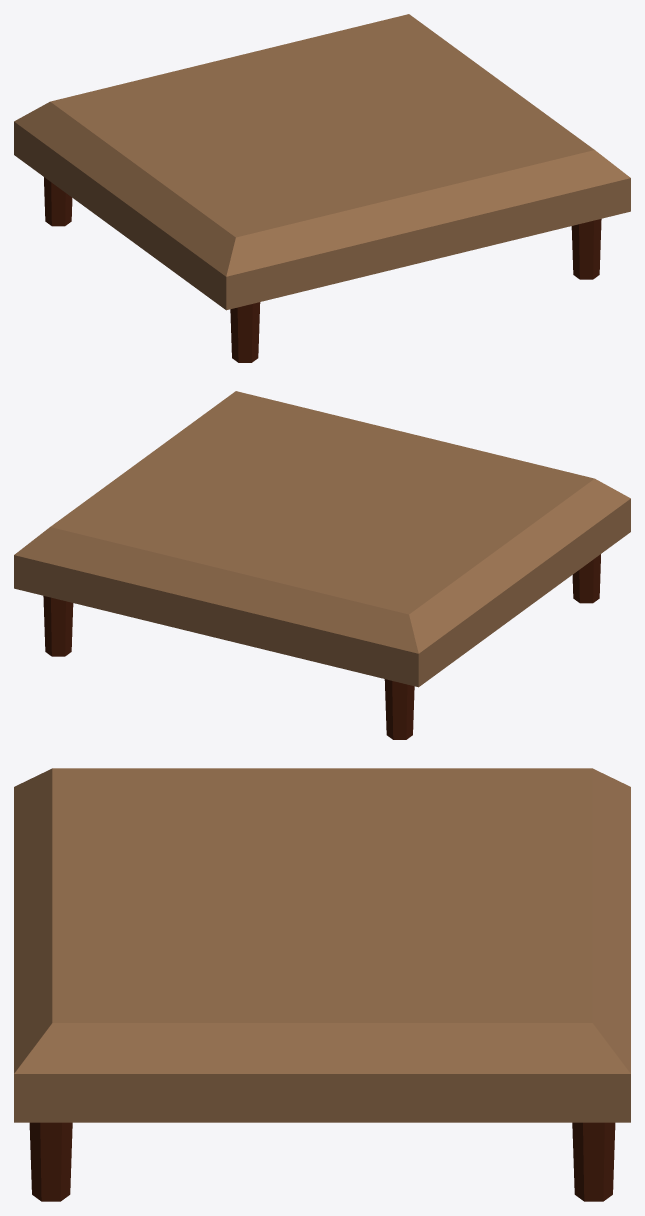
File: OttomanCoffeTable1.glb
3 renders of one model, top to bottom at view 1: azimuth 30°, elevation 25°; view 2: azimuth 150°, elevation 25°; view 3: azimuth 270°, elevation 25°, orthographic. The views are drawn at different scales.
Parts seen in each view (by area): view 1: OttomanCoffeTable1; view 2: OttomanCoffeTable1; view 3: OttomanCoffeTable1.
Boxes of the visible parts, bbox=[...] form: OttomanCoffeTable1: bbox=[14, 14, 630, 362]; OttomanCoffeTable1: bbox=[14, 391, 630, 739]; OttomanCoffeTable1: bbox=[14, 768, 630, 1201].
Bounding box in the file's own units: 1.58 × 0.4575 × 1.44.
